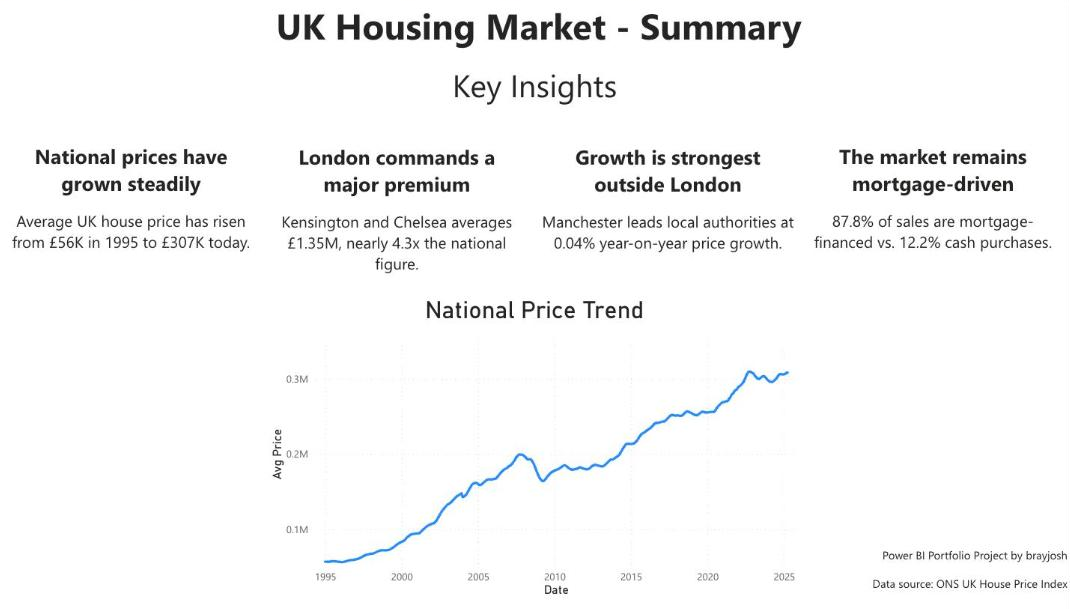

The page's visual inventory and layout, read from the dashboard file:
{"tool":"powerbi","page":{"name":"UK Housing Market - Summary","canvas":[1280,720],"ordinal":4},"visuals":[{"type":"textbox","box":[10,0,1270,75],"z":0},{"type":"textbox","box":[0,75.1,1280,61.4],"z":1000},{"type":"textbox","box":[0,167.8,316.9,175.3],"z":2000},{"type":"textbox","box":[316.9,169.1,316.9,174.1],"z":3001},{"type":"textbox","box":[640,169.1,316.9,174.1],"z":3003},{"type":"textbox","box":[956.9,167.8,316.9,175.3],"z":3005},{"type":"lineChart","title":"National Price Trend","fields":{"Category":["DateTable.Date"],"Y":["HPI.Avg Price"]},"box":[319.4,359.5,640,360.7],"z":3006},{"type":"textbox","box":[1027.8,651.8,252.5,68.6],"z":3007}]}

Visuals, with their boxes in screenshot pixels (x1, y1, x2, y2), scaled from the page's 1280x720 canvas onto the 1070x609 screenshot:
textbox: {"x1": 8, "y1": 0, "x2": 1069, "y2": 63}
textbox: {"x1": 0, "y1": 64, "x2": 1069, "y2": 115}
textbox: {"x1": 0, "y1": 142, "x2": 265, "y2": 290}
textbox: {"x1": 265, "y1": 143, "x2": 530, "y2": 290}
textbox: {"x1": 535, "y1": 143, "x2": 800, "y2": 290}
textbox: {"x1": 800, "y1": 142, "x2": 1065, "y2": 290}
"National Price Trend" lineChart: {"x1": 267, "y1": 304, "x2": 802, "y2": 608}
textbox: {"x1": 859, "y1": 551, "x2": 1069, "y2": 608}
